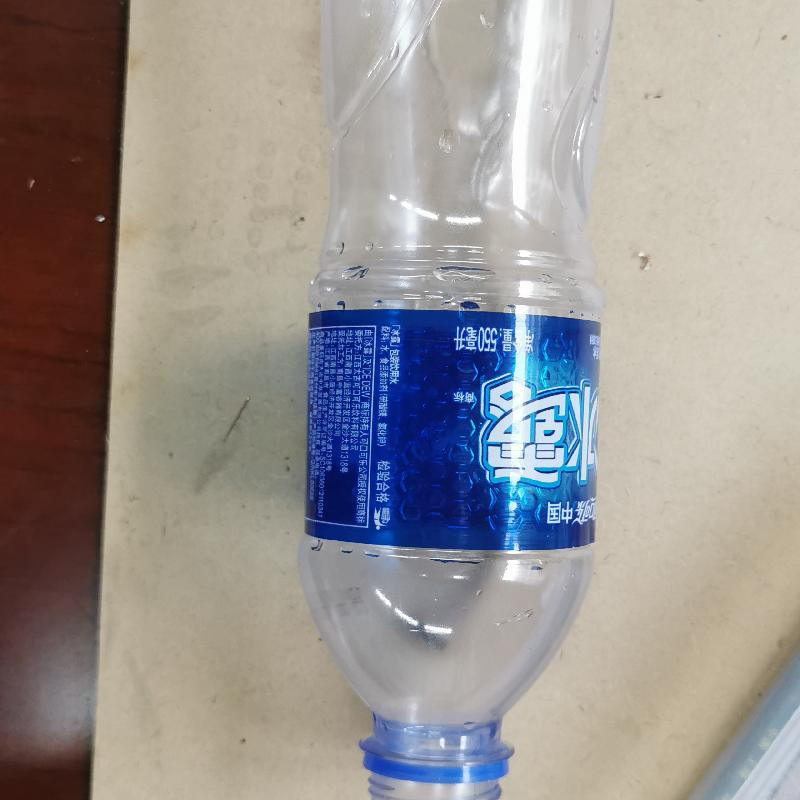bottles: (294, 2, 626, 799)
